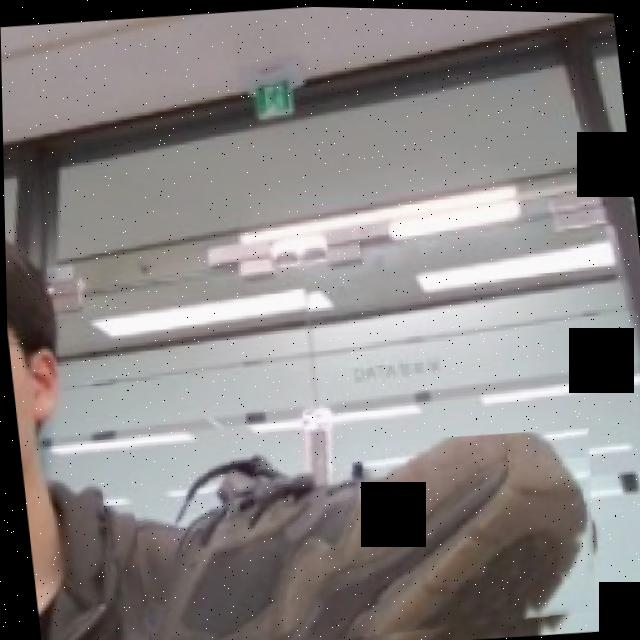shoe: (125, 416, 609, 640)
